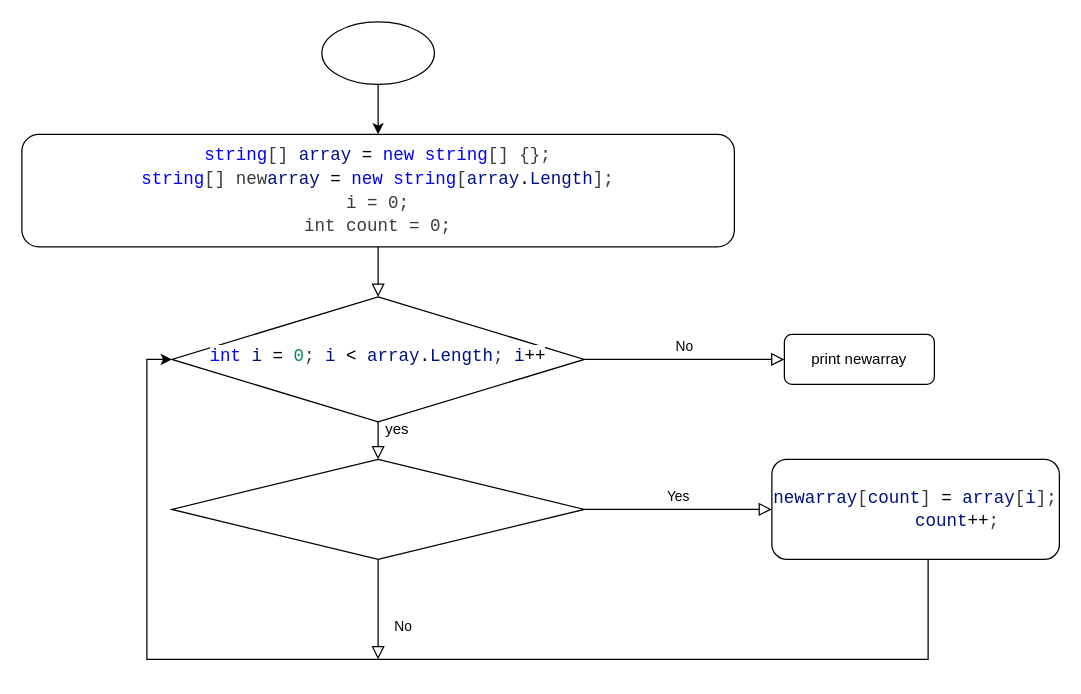
This 1081x694 diagram has some shape labels left out. The shapes that lost their labels are listed below. From the top down, each one's centre as x and y in pixels, then its label:
At [377,52]: "start".
At [377,508]: "array [ i ] . Length <= 3".
